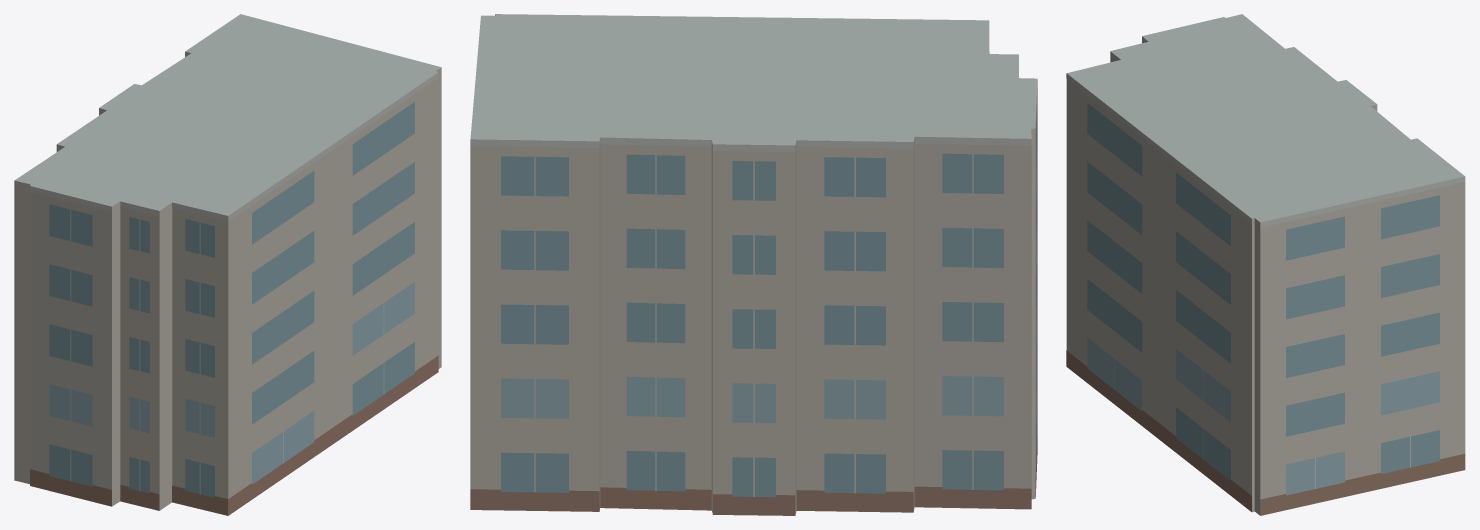
The model's file is survey-upis-32534221.glb.
3 views of the same model, side by side, from view 1: azimuth 30°, elevation 25°; view 2: azimuth 150°, elevation 25°; view 3: azimuth 270°, elevation 25° (orthographic). The views are drawn at different scales.
Visible parts, largest first — view 1: survey-upis-32534221.tmp; view 2: survey-upis-32534221.tmp; view 3: survey-upis-32534221.tmp.
Part boxes in pixels (x1=…): survey-upis-32534221.tmp: x1=14, y1=14, x2=441, y2=515; survey-upis-32534221.tmp: x1=470, y1=14, x2=1037, y2=515; survey-upis-32534221.tmp: x1=1066, y1=14, x2=1465, y2=515.
Size of the model in its own units: 20.26 by 13.3 by 16.39.
